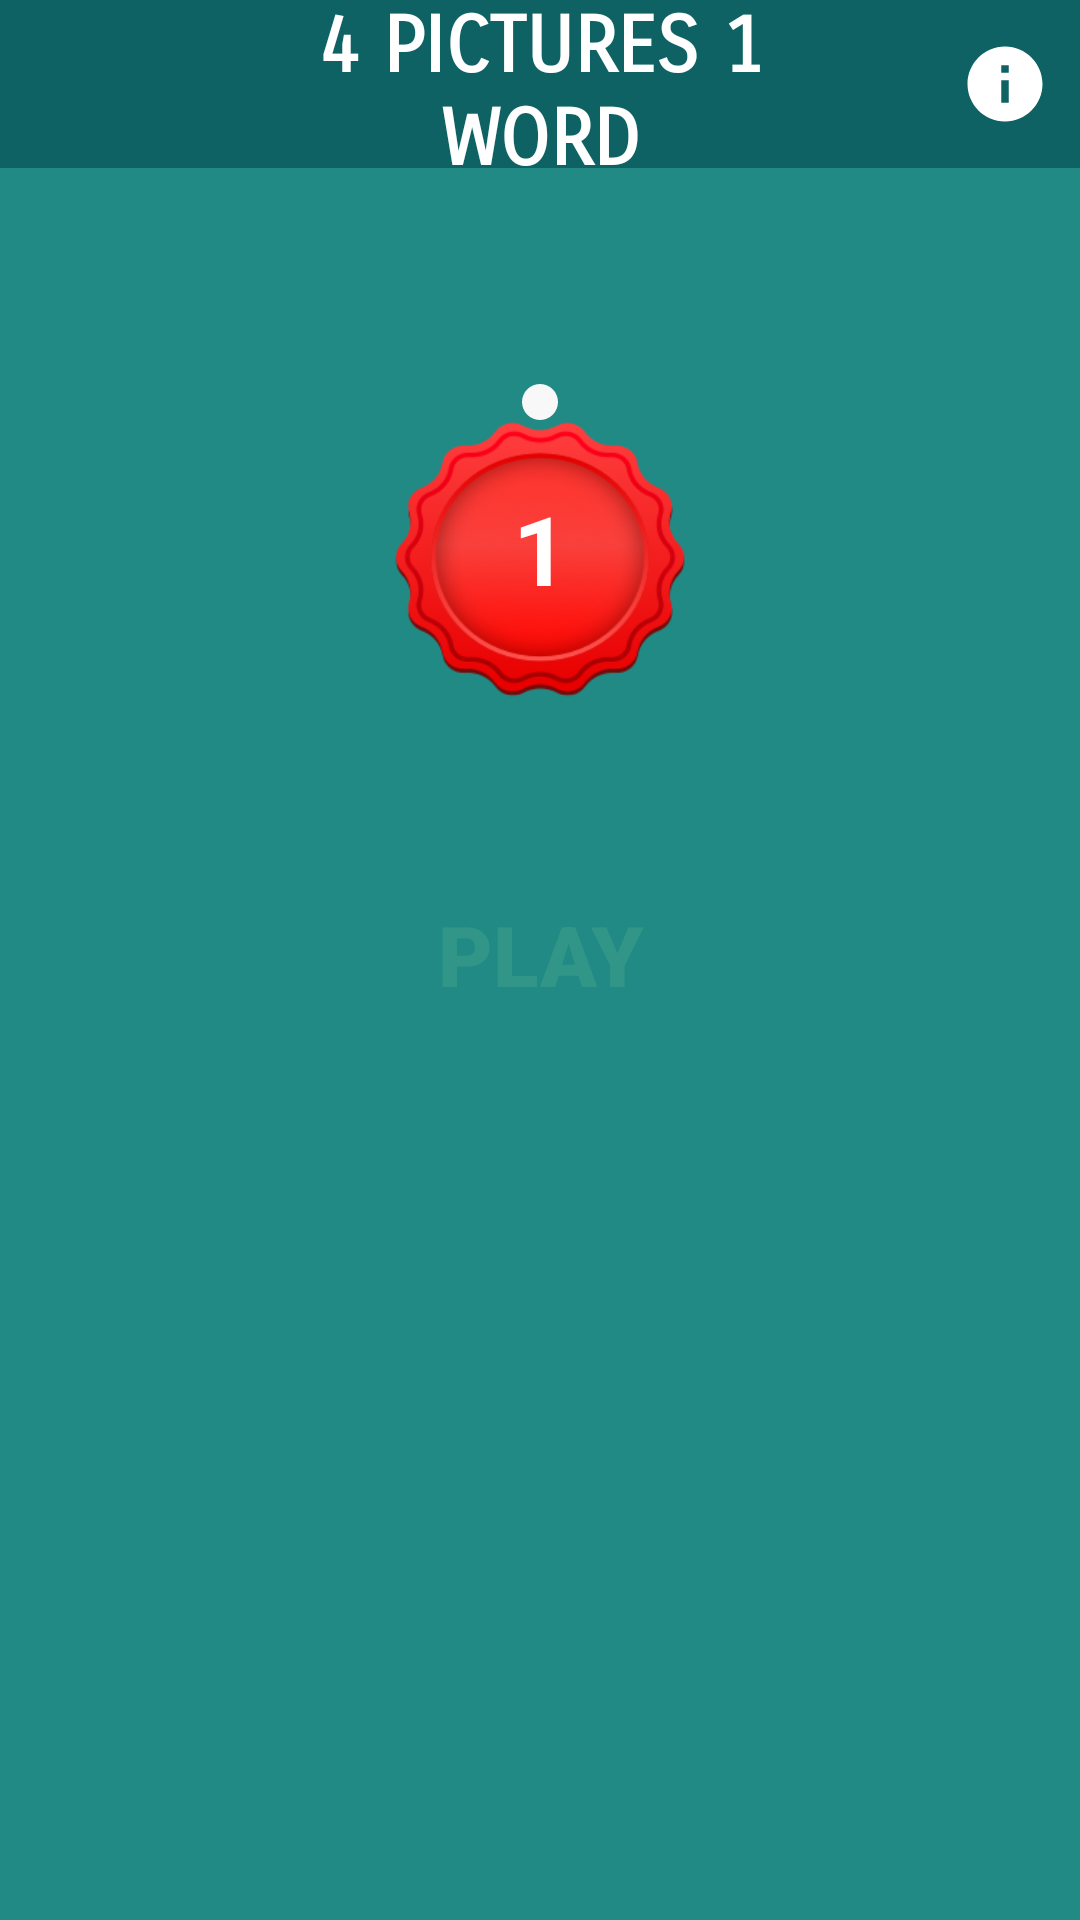

Screen size 1080×1920. Icon name, then its center in pixels as point (x, y):
info: point (1005, 84)
